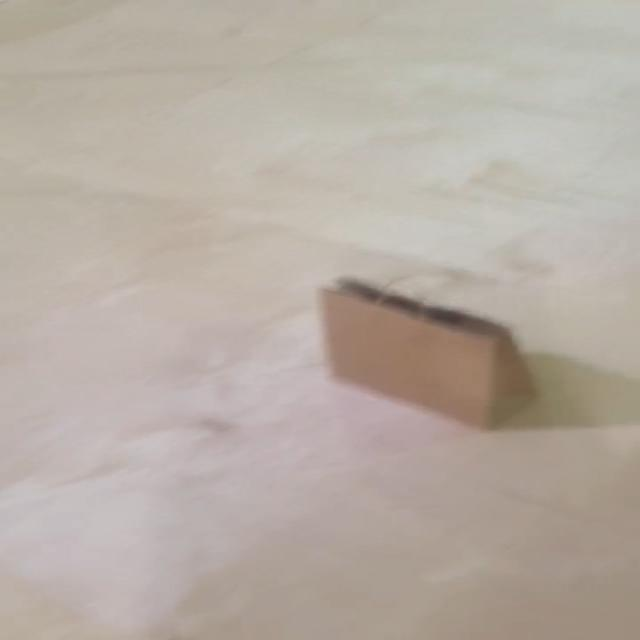paper bag: (318, 275, 539, 433)
